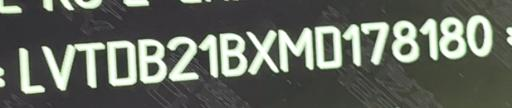letter: (102, 37, 140, 86), (276, 27, 316, 73), (40, 40, 76, 91), (164, 34, 200, 82), (312, 22, 344, 72), (246, 27, 278, 77), (134, 35, 168, 82), (72, 40, 106, 87), (388, 17, 420, 64), (14, 45, 46, 92), (464, 14, 498, 56), (218, 29, 246, 79), (362, 20, 390, 67), (439, 15, 467, 59), (342, 20, 366, 68), (198, 33, 222, 81), (420, 17, 442, 64)
